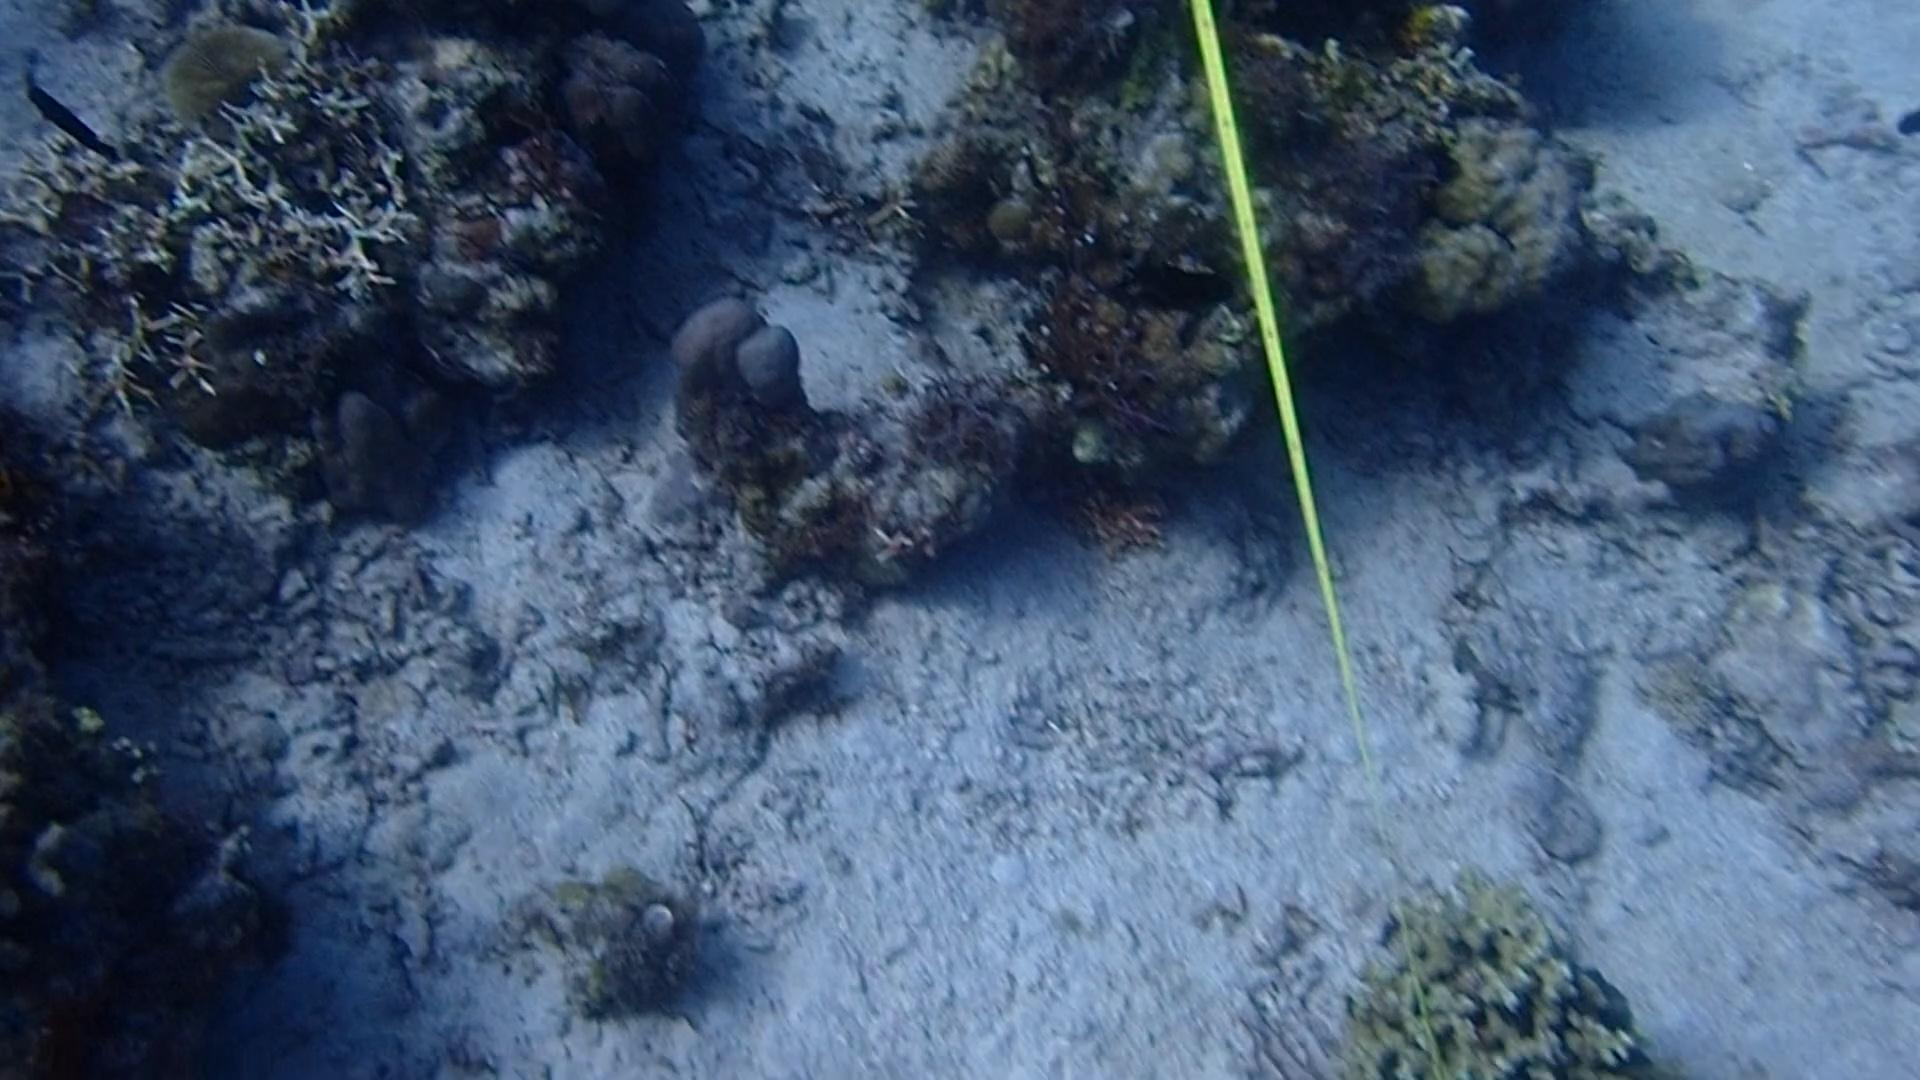Dark Fish: (22, 73, 131, 174), (1121, 258, 1236, 332)
